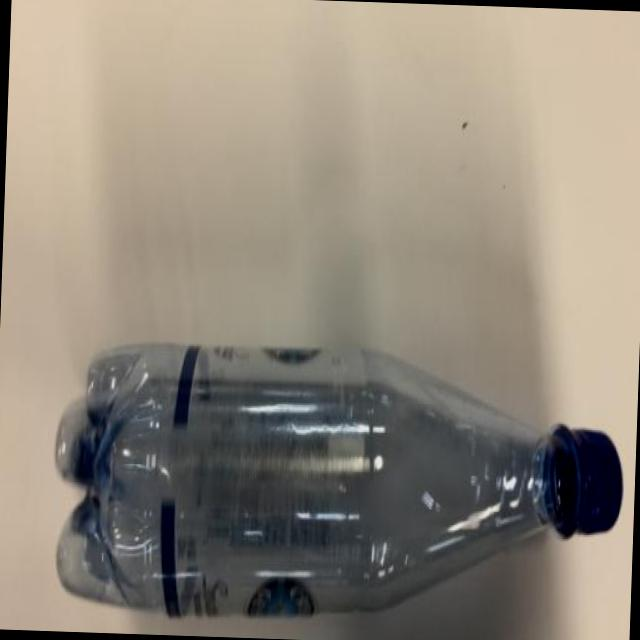Recycle: (42, 336, 628, 640)
